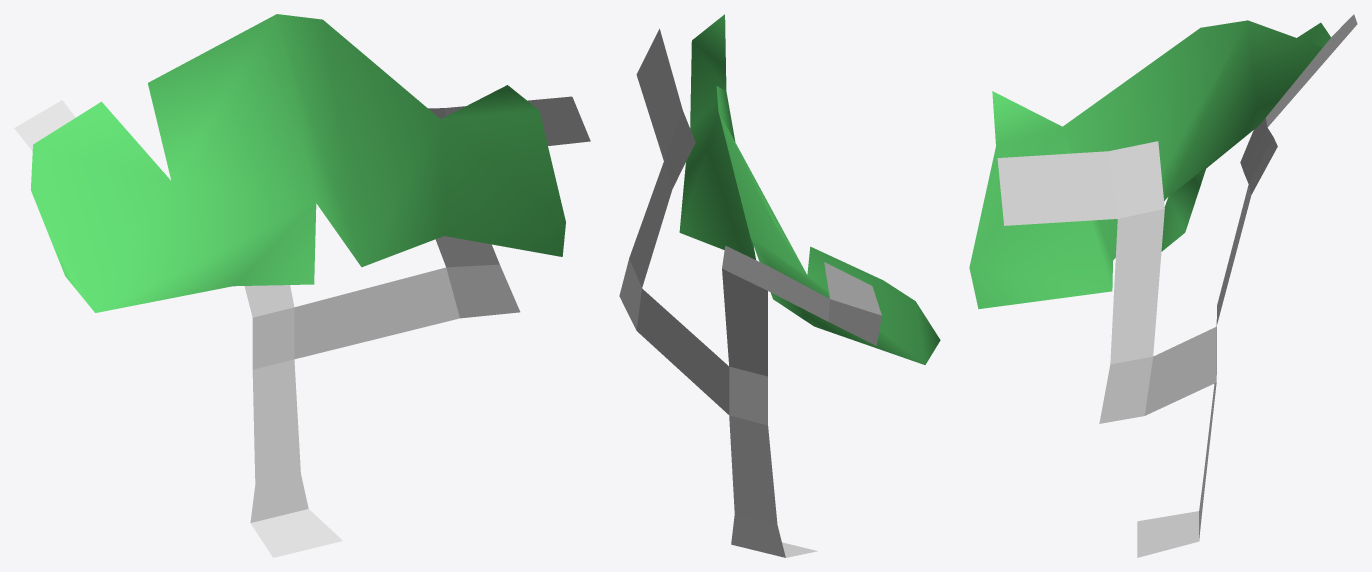
The model's file is Bush_01.fbx.
3 views of the same model, side by side, from view 1: azimuth 30°, elevation 25°; view 2: azimuth 150°, elevation 25°; view 3: azimuth 270°, elevation 25° (orthographic). The views are drawn at different scales.
Visible parts, largest first — view 1: Plane.009, Plane.008; view 2: Plane.008, Plane.009; view 3: Plane.009, Plane.008.
Part boxes in pixels (x1,y1,x2,y2): Plane.009: (31, 14, 565, 312); Plane.008: (14, 96, 590, 557); Plane.008: (619, 28, 881, 557); Plane.009: (679, 14, 940, 364); Plane.009: (969, 20, 1330, 309); Plane.008: (997, 14, 1357, 557).
Bounding box in the file's own units: 17.23 × 19.12 × 12.58.
